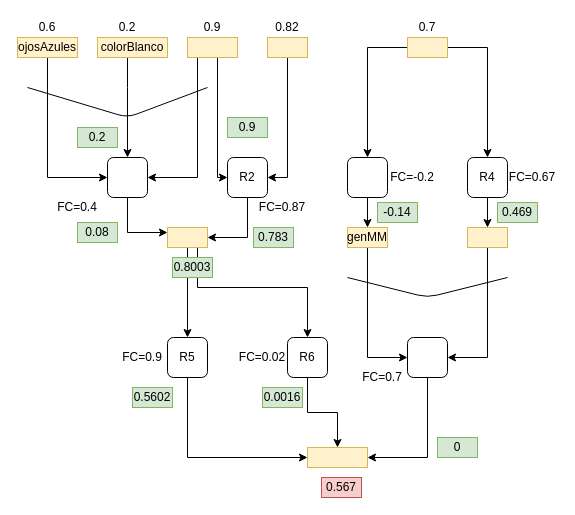
This 575x515 diagram has some shape labels left out. The box of each missing label's shape, as (x1, y1, x2, y2) in pixels:
alto: (406, 36, 448, 58)
castanio: (186, 36, 238, 58)
genP: (166, 226, 208, 248)
genPM: (466, 226, 508, 248)
genProg: (306, 446, 368, 468)
pecas: (266, 36, 308, 58)
R1: (106, 156, 148, 198)
R3: (346, 156, 388, 198)
R7: (406, 336, 448, 378)
